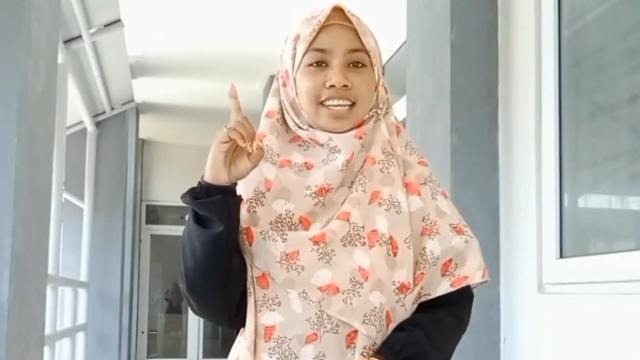D: (205, 81, 268, 183)
